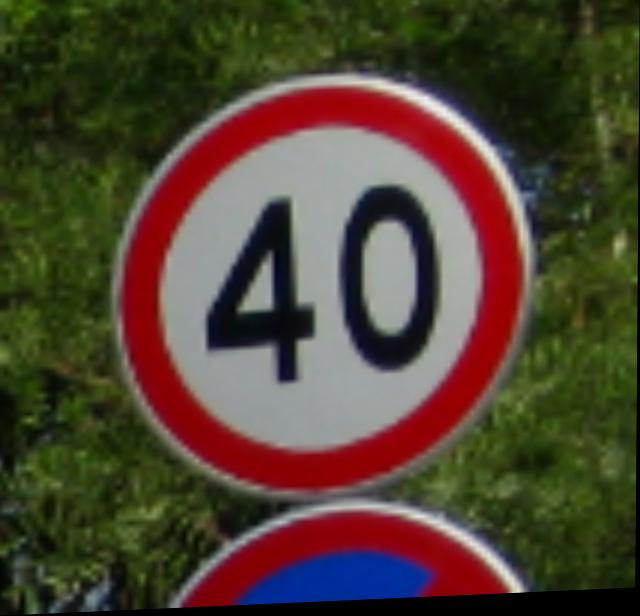limit40: (103, 62, 548, 517)
